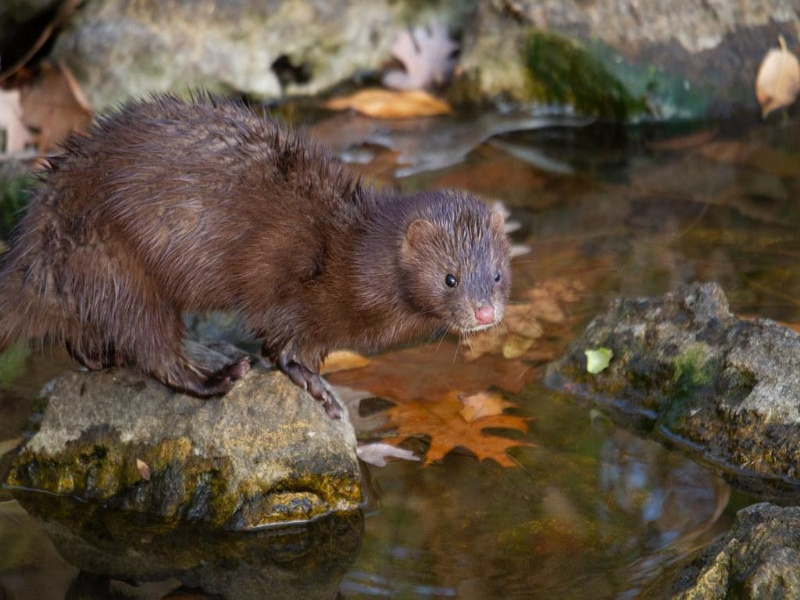minkish: (14, 83, 511, 406)
